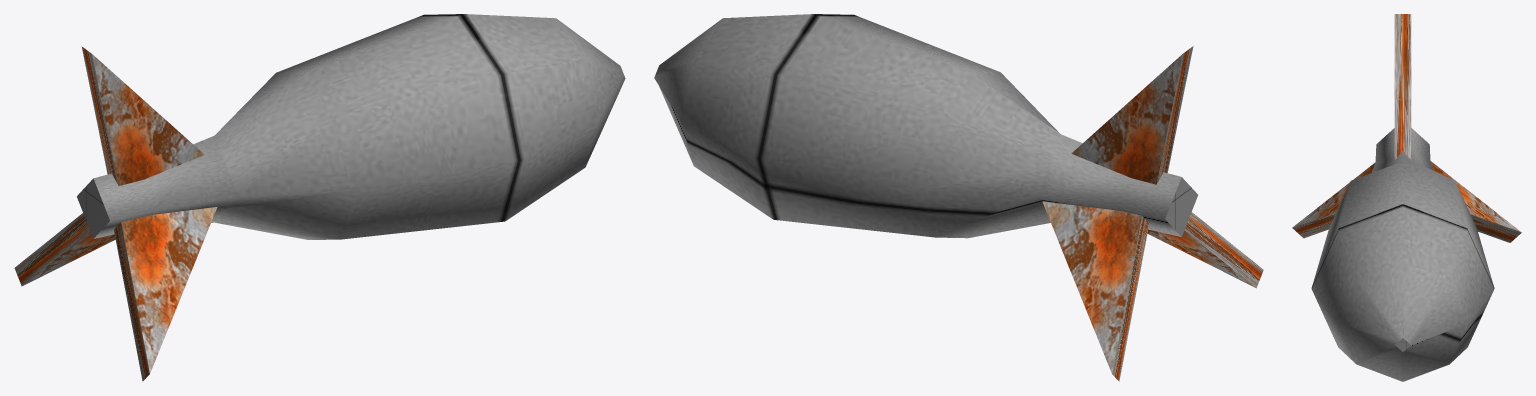
Rendered from bomb.obj.
3 views of the same model, side by side, from view 1: azimuth 30°, elevation 25°; view 2: azimuth 150°, elevation 25°; view 3: azimuth 270°, elevation 25° (orthographic). The views are drawn at different scales.
Visible parts, largest first — view 1: Spline Object, Spline Object 1_1, Spline Object 1, Spline Object 1_2; view 2: Spline Object, Spline Object 1_2, Spline Object 1, Spline Object 1_1; view 3: Spline Object, Spline Object 1, Spline Object 1_2, Spline Object 1_1.
Boxes of the visible parts, x1=… form: Spline Object: x1=77, y1=14, x2=625, y2=239; Spline Object 1_1: x1=114, y1=207, x2=217, y2=381; Spline Object 1: x1=81, y1=46, x2=204, y2=185; Spline Object 1_2: x1=14, y1=213, x2=115, y2=286; Spline Object: x1=654, y1=14, x2=1197, y2=238; Spline Object 1_2: x1=1042, y1=201, x2=1149, y2=381; Spline Object 1: x1=1071, y1=46, x2=1193, y2=184; Spline Object 1_1: x1=1147, y1=212, x2=1263, y2=288; Spline Object: x1=1311, y1=128, x2=1494, y2=381; Spline Object 1: x1=1394, y1=14, x2=1411, y2=159; Spline Object 1_2: x1=1430, y1=161, x2=1521, y2=242; Spline Object 1_1: x1=1292, y1=162, x2=1375, y2=238.
Bounding box in the file's own units: 10.25 × 5.19 × 4.74.
Materials: 2 (2 with a texture image).
